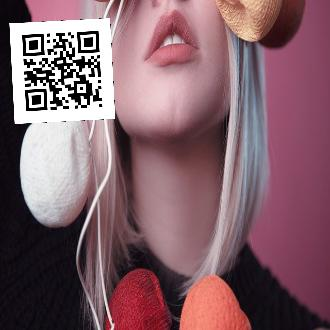qr_code: (9, 18, 114, 123)
